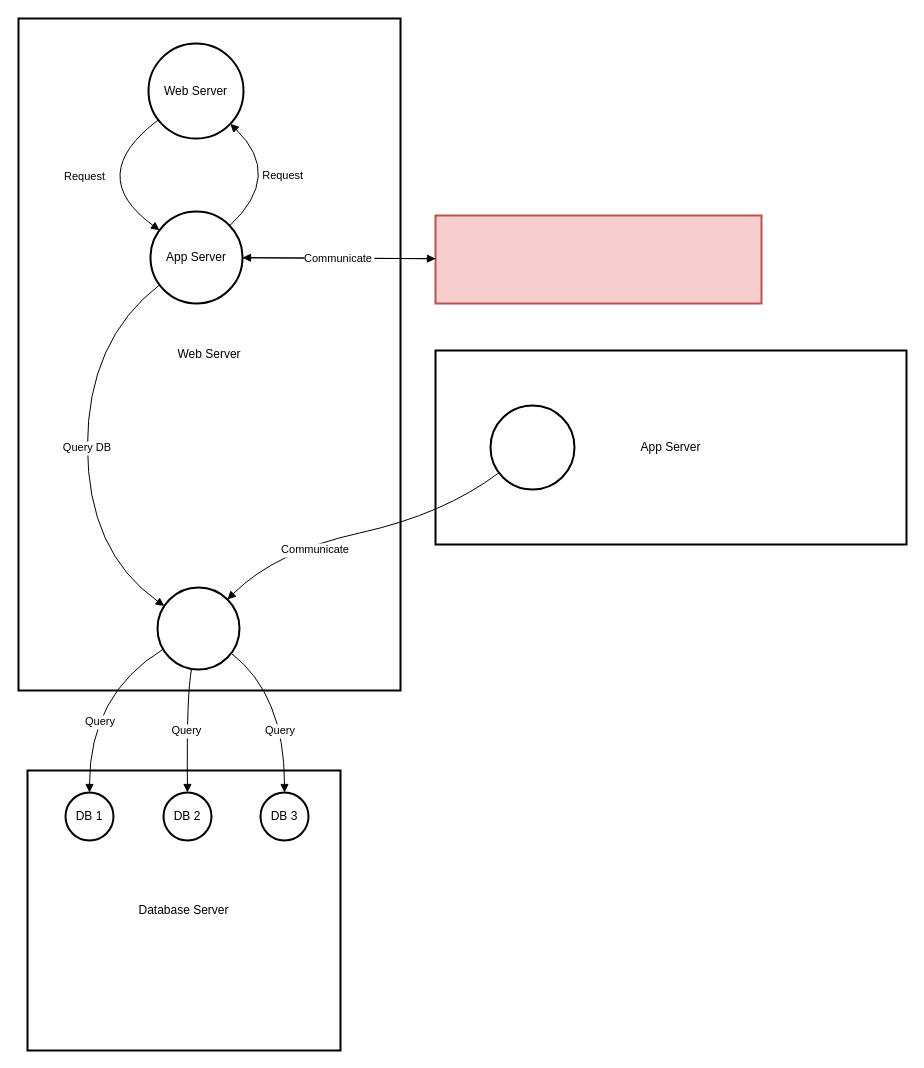
The diagram is 924 pixels wide and 1068 high, and some of its shapes have lost their labels. The shapes that lost their labels are listed below. From the top down, each one's centre as x and y in pixels, then its label:
At (x=598, y=259): "Worker".
At (x=532, y=447): "API".
At (x=198, y=628): "Database".
